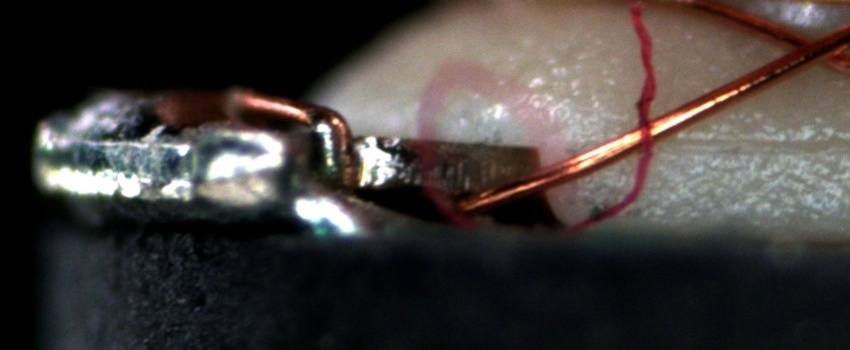CL: (776, 23, 845, 71)
DL: (650, 112, 849, 176)
TE: (223, 78, 369, 188)
